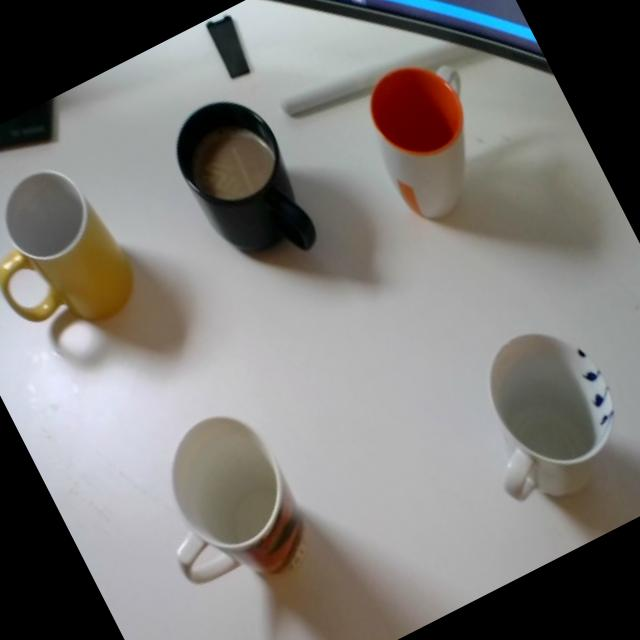Cocio Cup: (0, 149, 149, 358)
Cup: (154, 76, 334, 290)
Halloween cup: (122, 392, 332, 620)
Hand painted cup: (442, 303, 640, 531)
White Cup: (342, 41, 512, 232)
